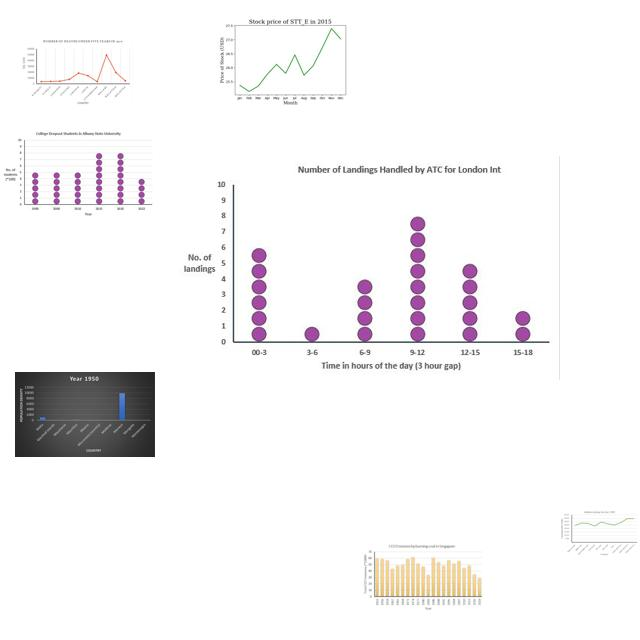Graph: (173, 156, 560, 380), (217, 6, 360, 113), (0, 129, 155, 220), (15, 372, 155, 457), (362, 543, 483, 612), (20, 35, 133, 108), (561, 510, 638, 556)
